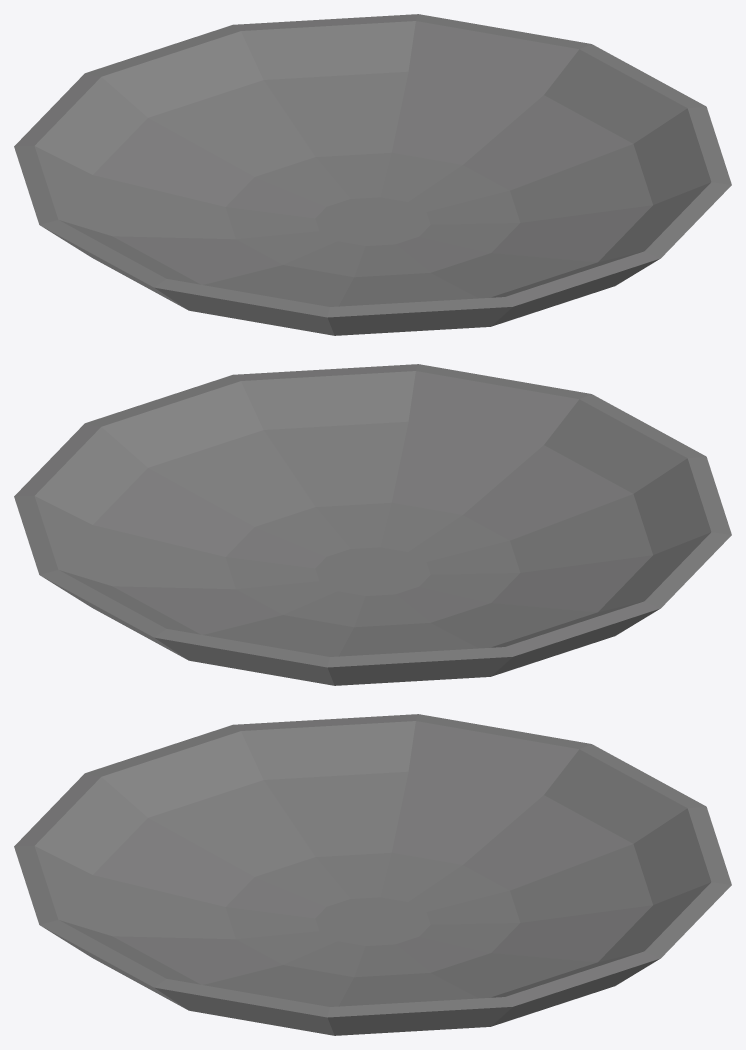
Rendered from Plate_1.fbx.
3 views of the same model, one above another, from view 1: azimuth 30°, elevation 25°; view 2: azimuth 150°, elevation 25°; view 3: azimuth 270°, elevation 25° (orthographic).
Visible parts, largest first — view 1: Plate_1; view 2: Plate_1; view 3: Plate_1.
Boxes of the visible parts, x1,y1,x2,y2 form: Plate_1: [14, 14, 731, 335]; Plate_1: [14, 364, 731, 685]; Plate_1: [14, 714, 731, 1035].
Bounding box in the file's own units: 32.53 × 3.51 × 32.53.
